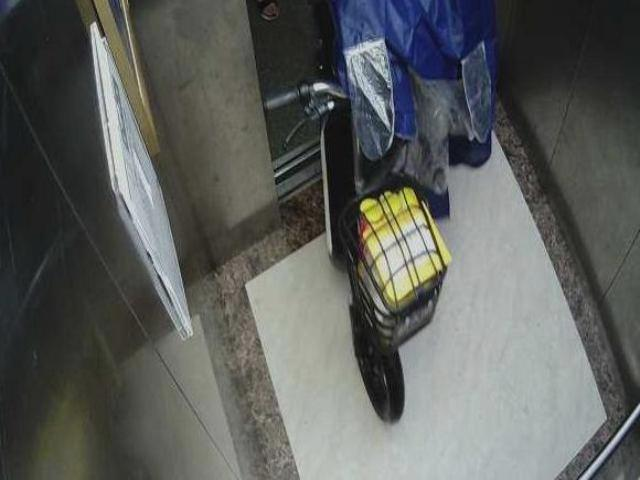emotor: (263, 54, 445, 434)
